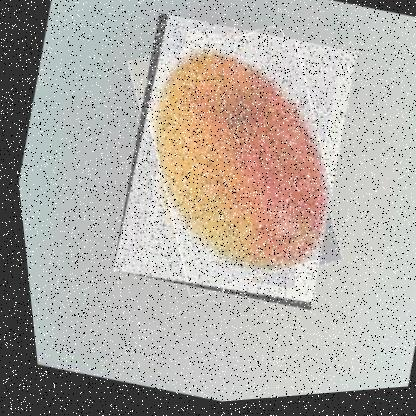mango: (85, 1, 376, 326)
